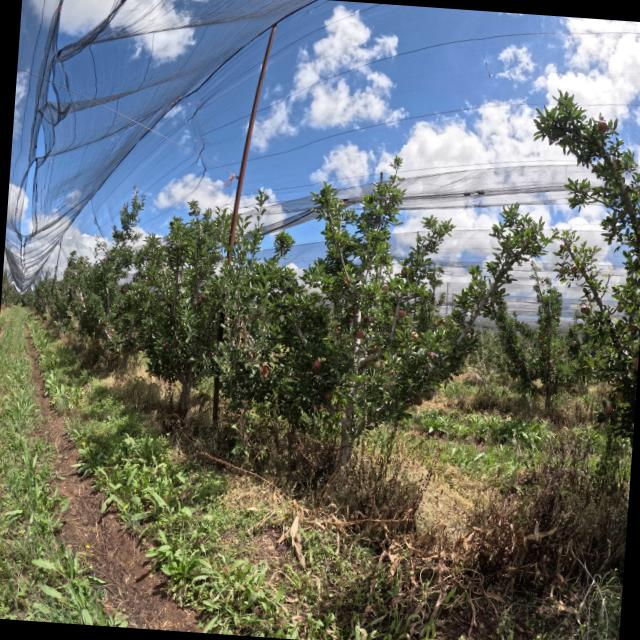-FireBlight-: (230, 313, 271, 379)
